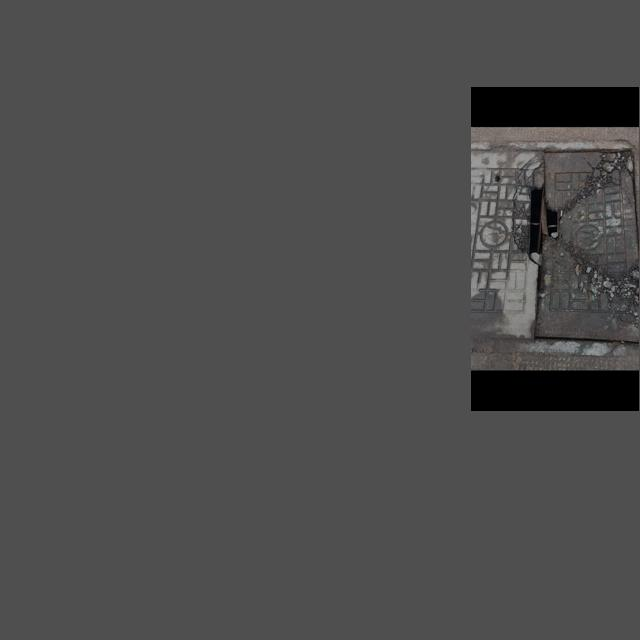broke: (473, 139, 638, 360)
